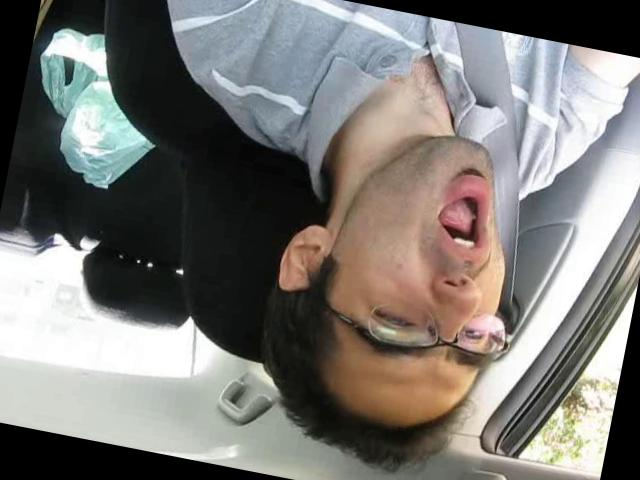eye_open: (370, 306, 422, 338), (458, 319, 494, 351)
face: (331, 118, 536, 397)
mouth_open: (428, 166, 500, 258)
